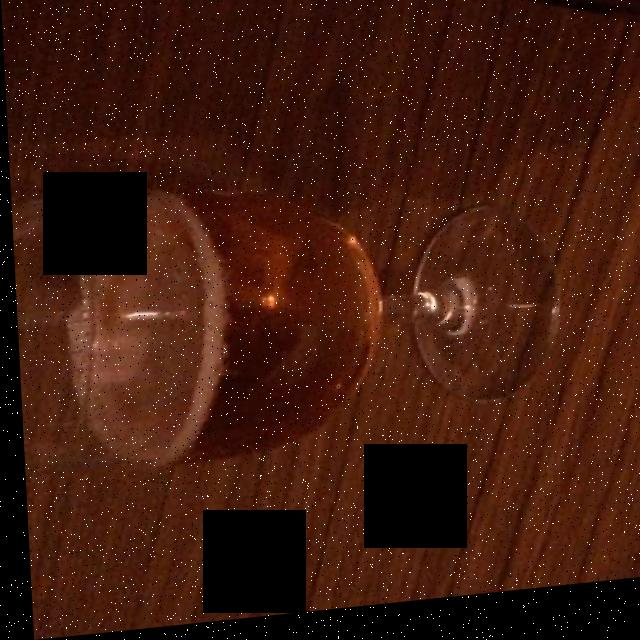beer: (81, 197, 365, 460)
